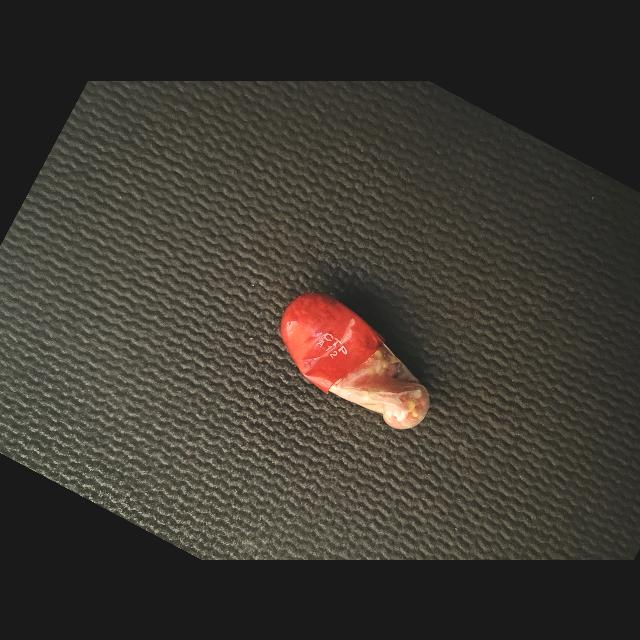Defective Capsule: (281, 292, 430, 429)
